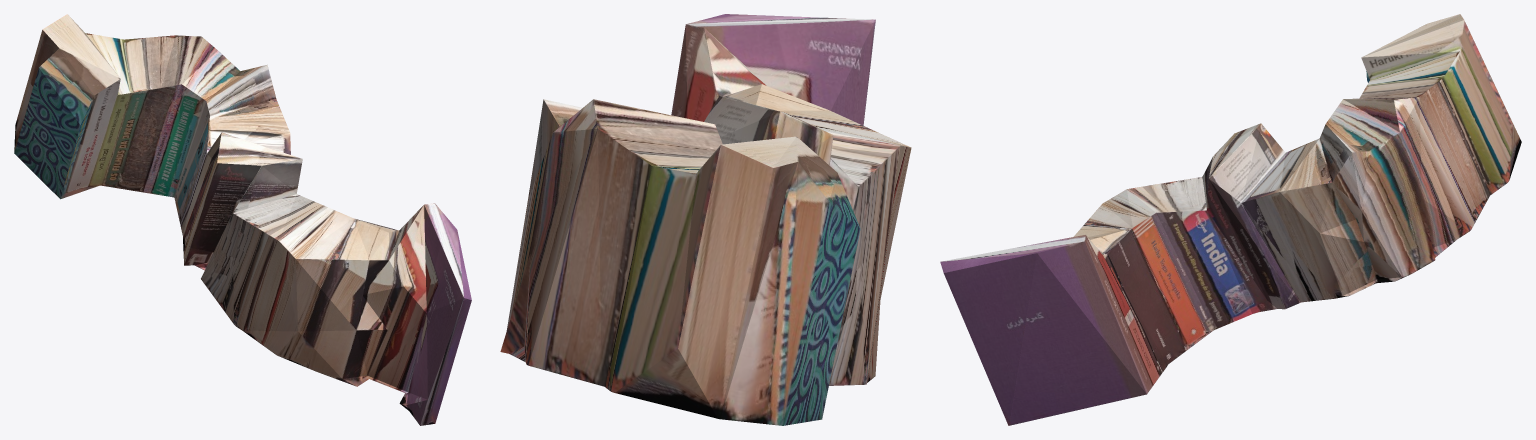
3 views of the same model, side by side, from view 1: azimuth 30°, elevation 25°; view 2: azimuth 150°, elevation 25°; view 3: azimuth 270°, elevation 25° (orthographic). The views are drawn at different scales.
Parts seen in each view (by area): view 1: Scan 105; view 2: Scan 105; view 3: Scan 105.
Part boxes in pixels (left/top/right/bottom): Scan 105: left=14, top=14, right=471, bottom=425; Scan 105: left=500, top=14, right=911, bottom=425; Scan 105: left=940, top=14, right=1521, bottom=425.
Size of the model in its own units: 126 by 149 by 245.
1 material, 1 textured.
